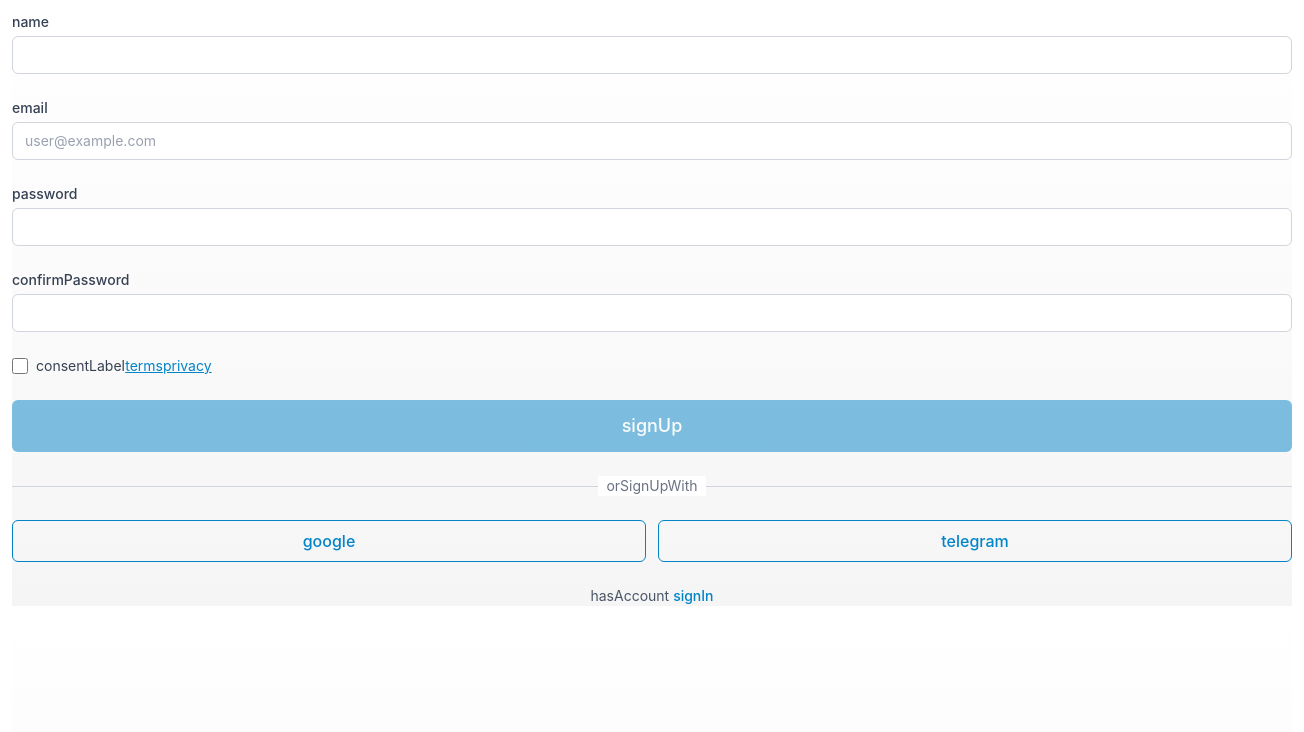
Scenario: RegisterForm › shows password strength indicator when typing password
Type "abc" into the password field labelled "password" at (652, 227), box 12,208 -> 1292,246
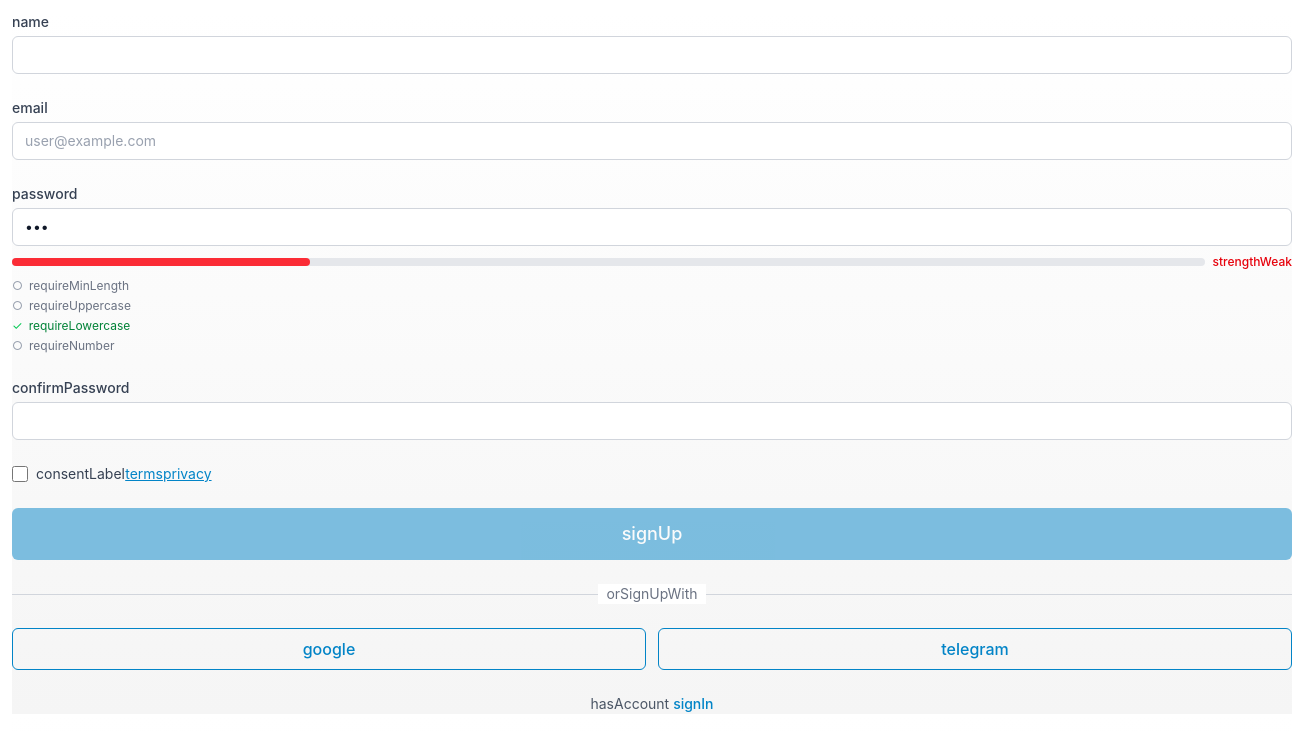
Result: the element with test id "password-strength" is shown at 12,254 -> 1292,354
